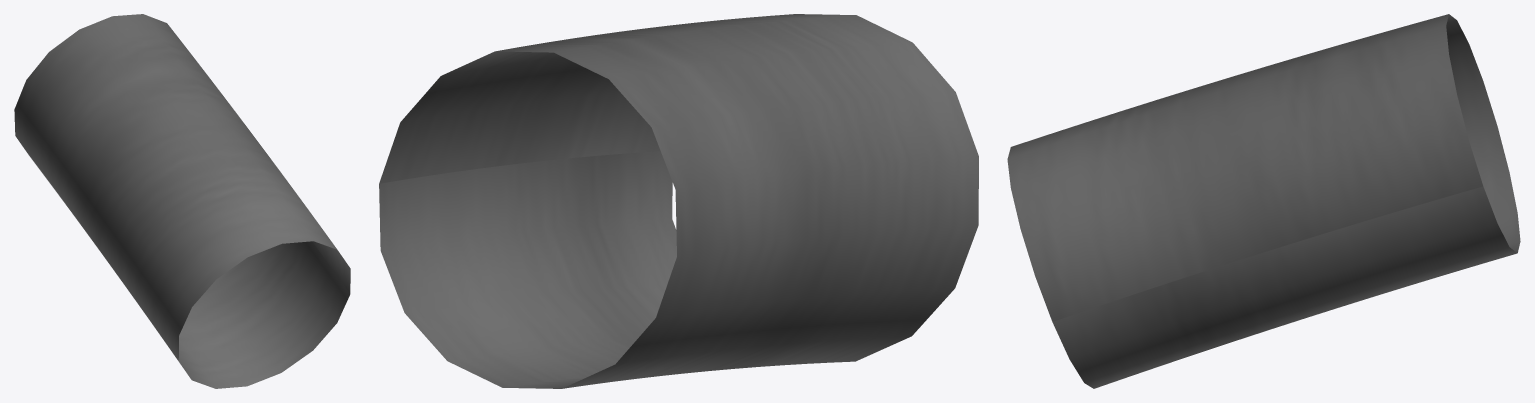
Rendered from mastarmcurve_8x2_c3.obj.
3 renders of one model, left to right at view 1: azimuth 30°, elevation 25°; view 2: azimuth 150°, elevation 25°; view 3: azimuth 270°, elevation 25°, orthographic. The views are drawn at different scales.
Parts seen in each view (by area): view 1: mastarm_8x2_c3; view 2: mastarm_8x2_c3; view 3: mastarm_8x2_c3.
Part boxes in pixels (x1,y1,x2,y2): mastarm_8x2_c3: [14, 14, 350, 388]; mastarm_8x2_c3: [379, 14, 978, 388]; mastarm_8x2_c3: [1007, 14, 1520, 388].
Size of the model in its own units: 0.5938 by 0.8976 by 1.19.
